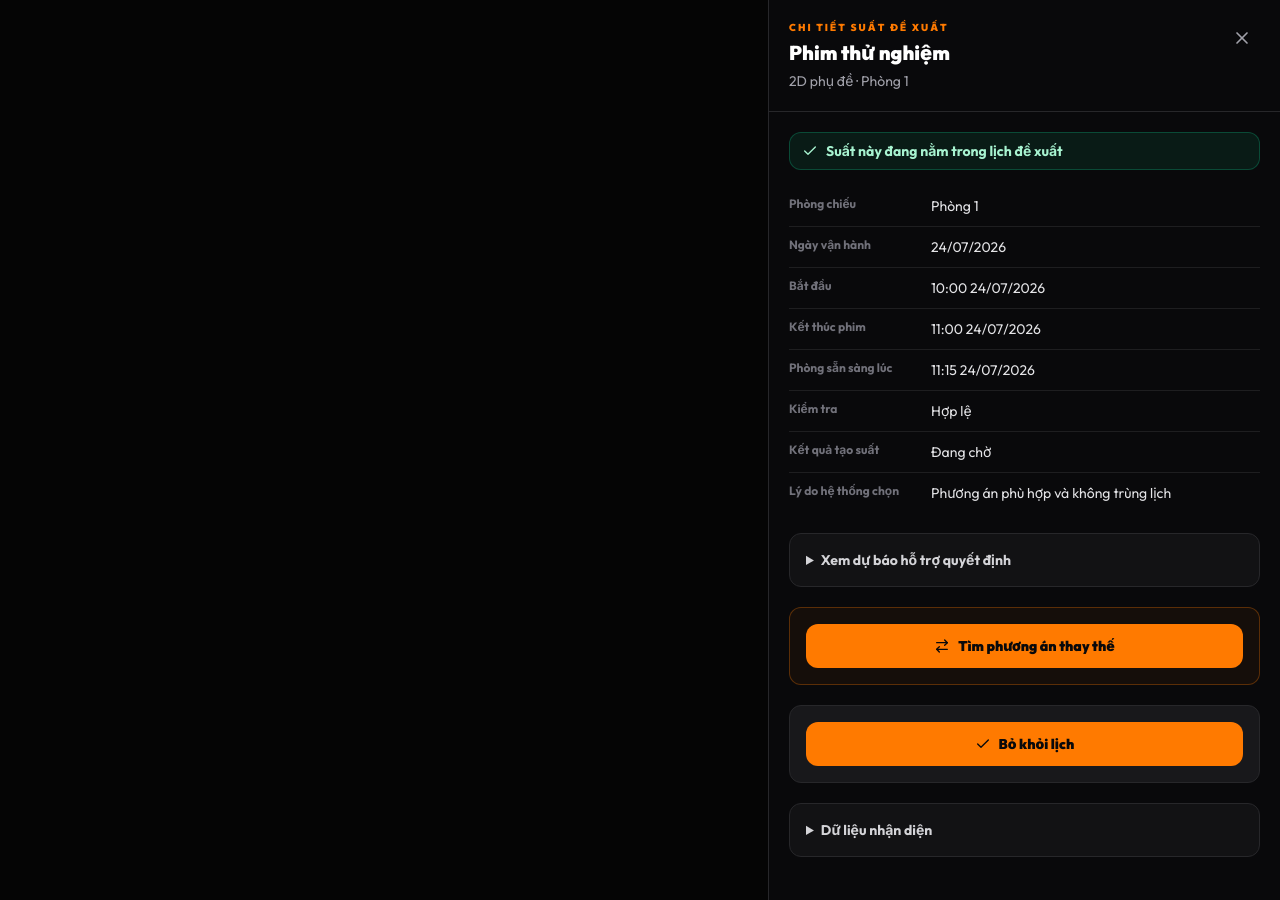
Test: AutoScheduleCandidateDrawer › explains that replacement alternatives are still loading
The image size is (1280, 900).
Click the button "Tìm phương án thay thế" at (1024, 646), box [806,624,1243,668]
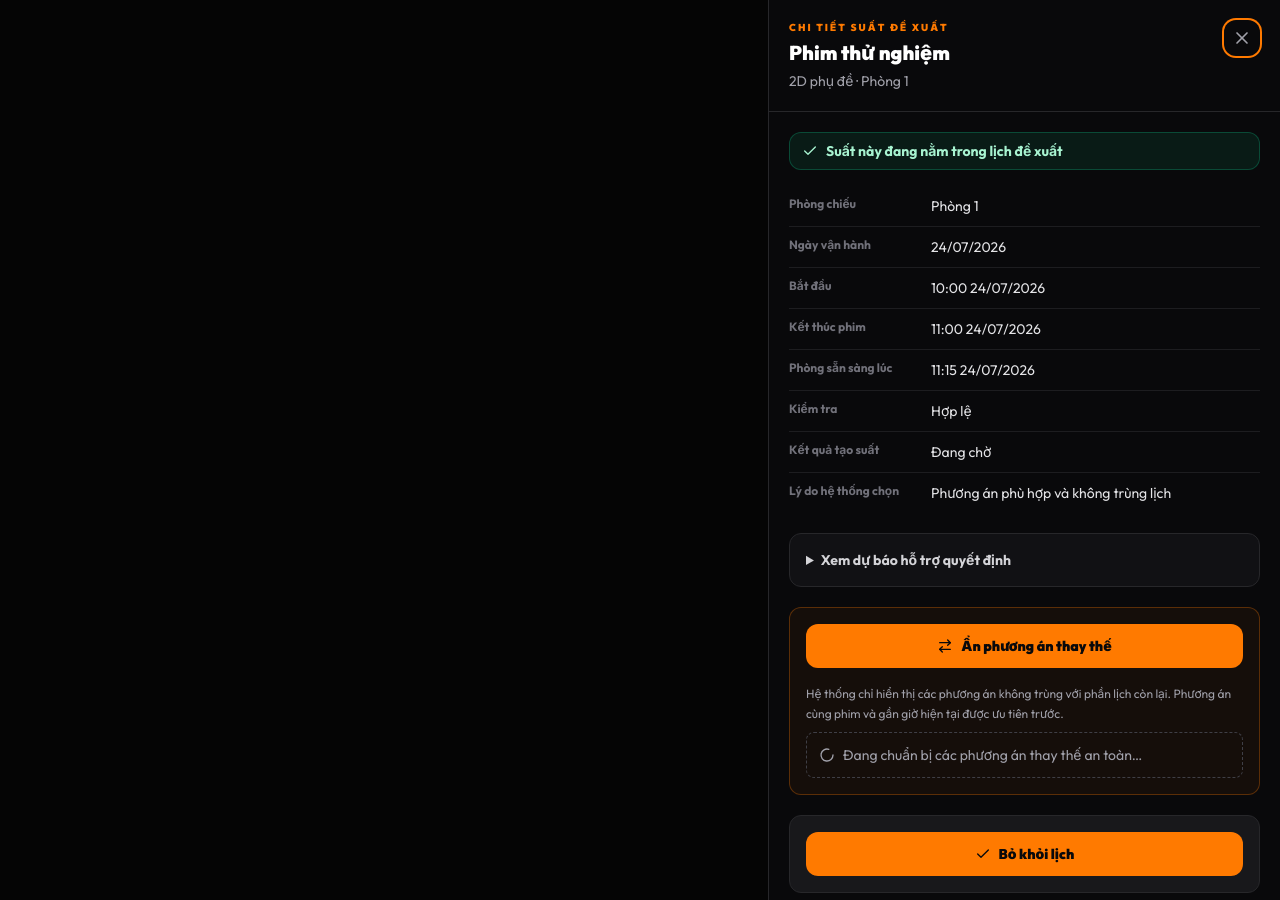
Expected: the text "Đang chuẩn bị các phương án thay thế an toàn…" is shown, [806,732,1243,778]
